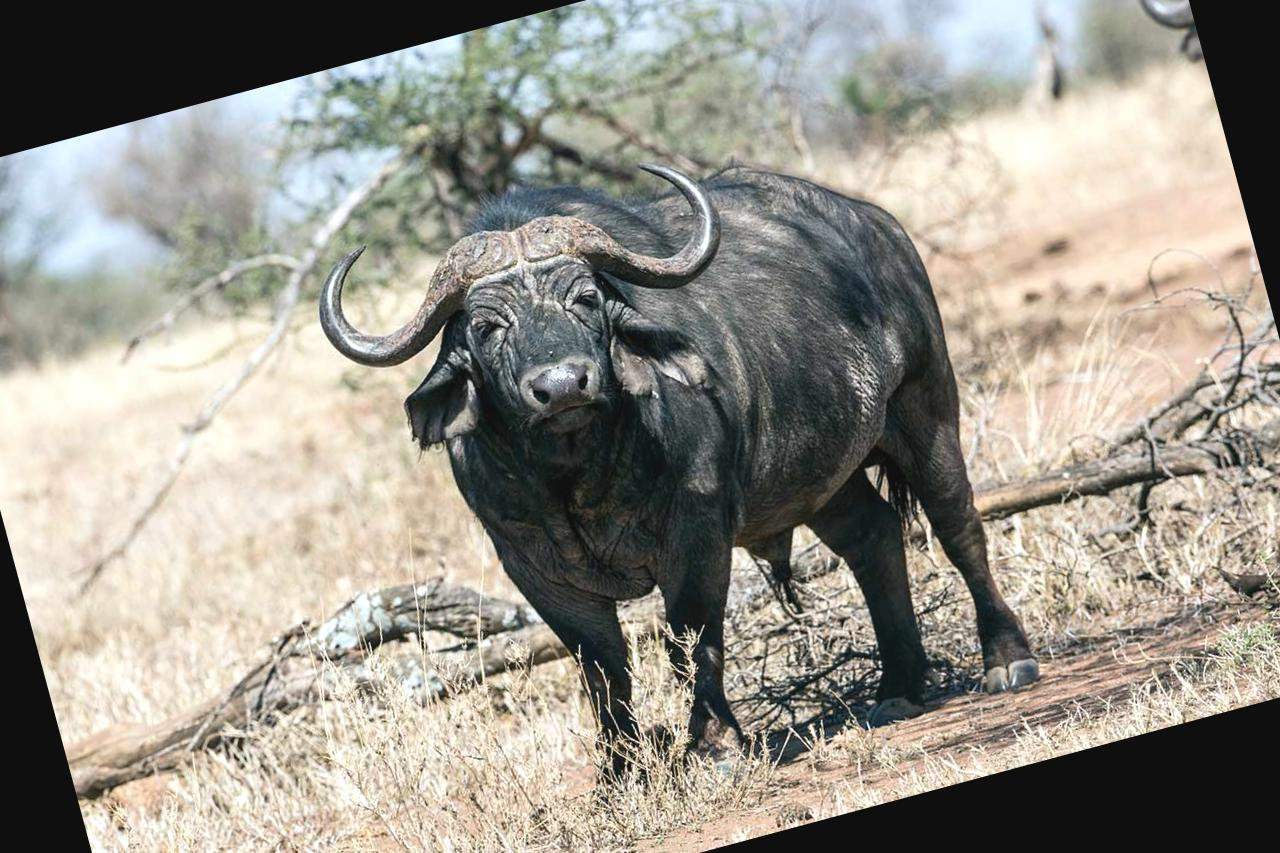Buffalo: (262, 0, 1229, 853)
